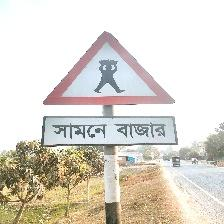Market-in-front: (41, 30, 178, 147)
